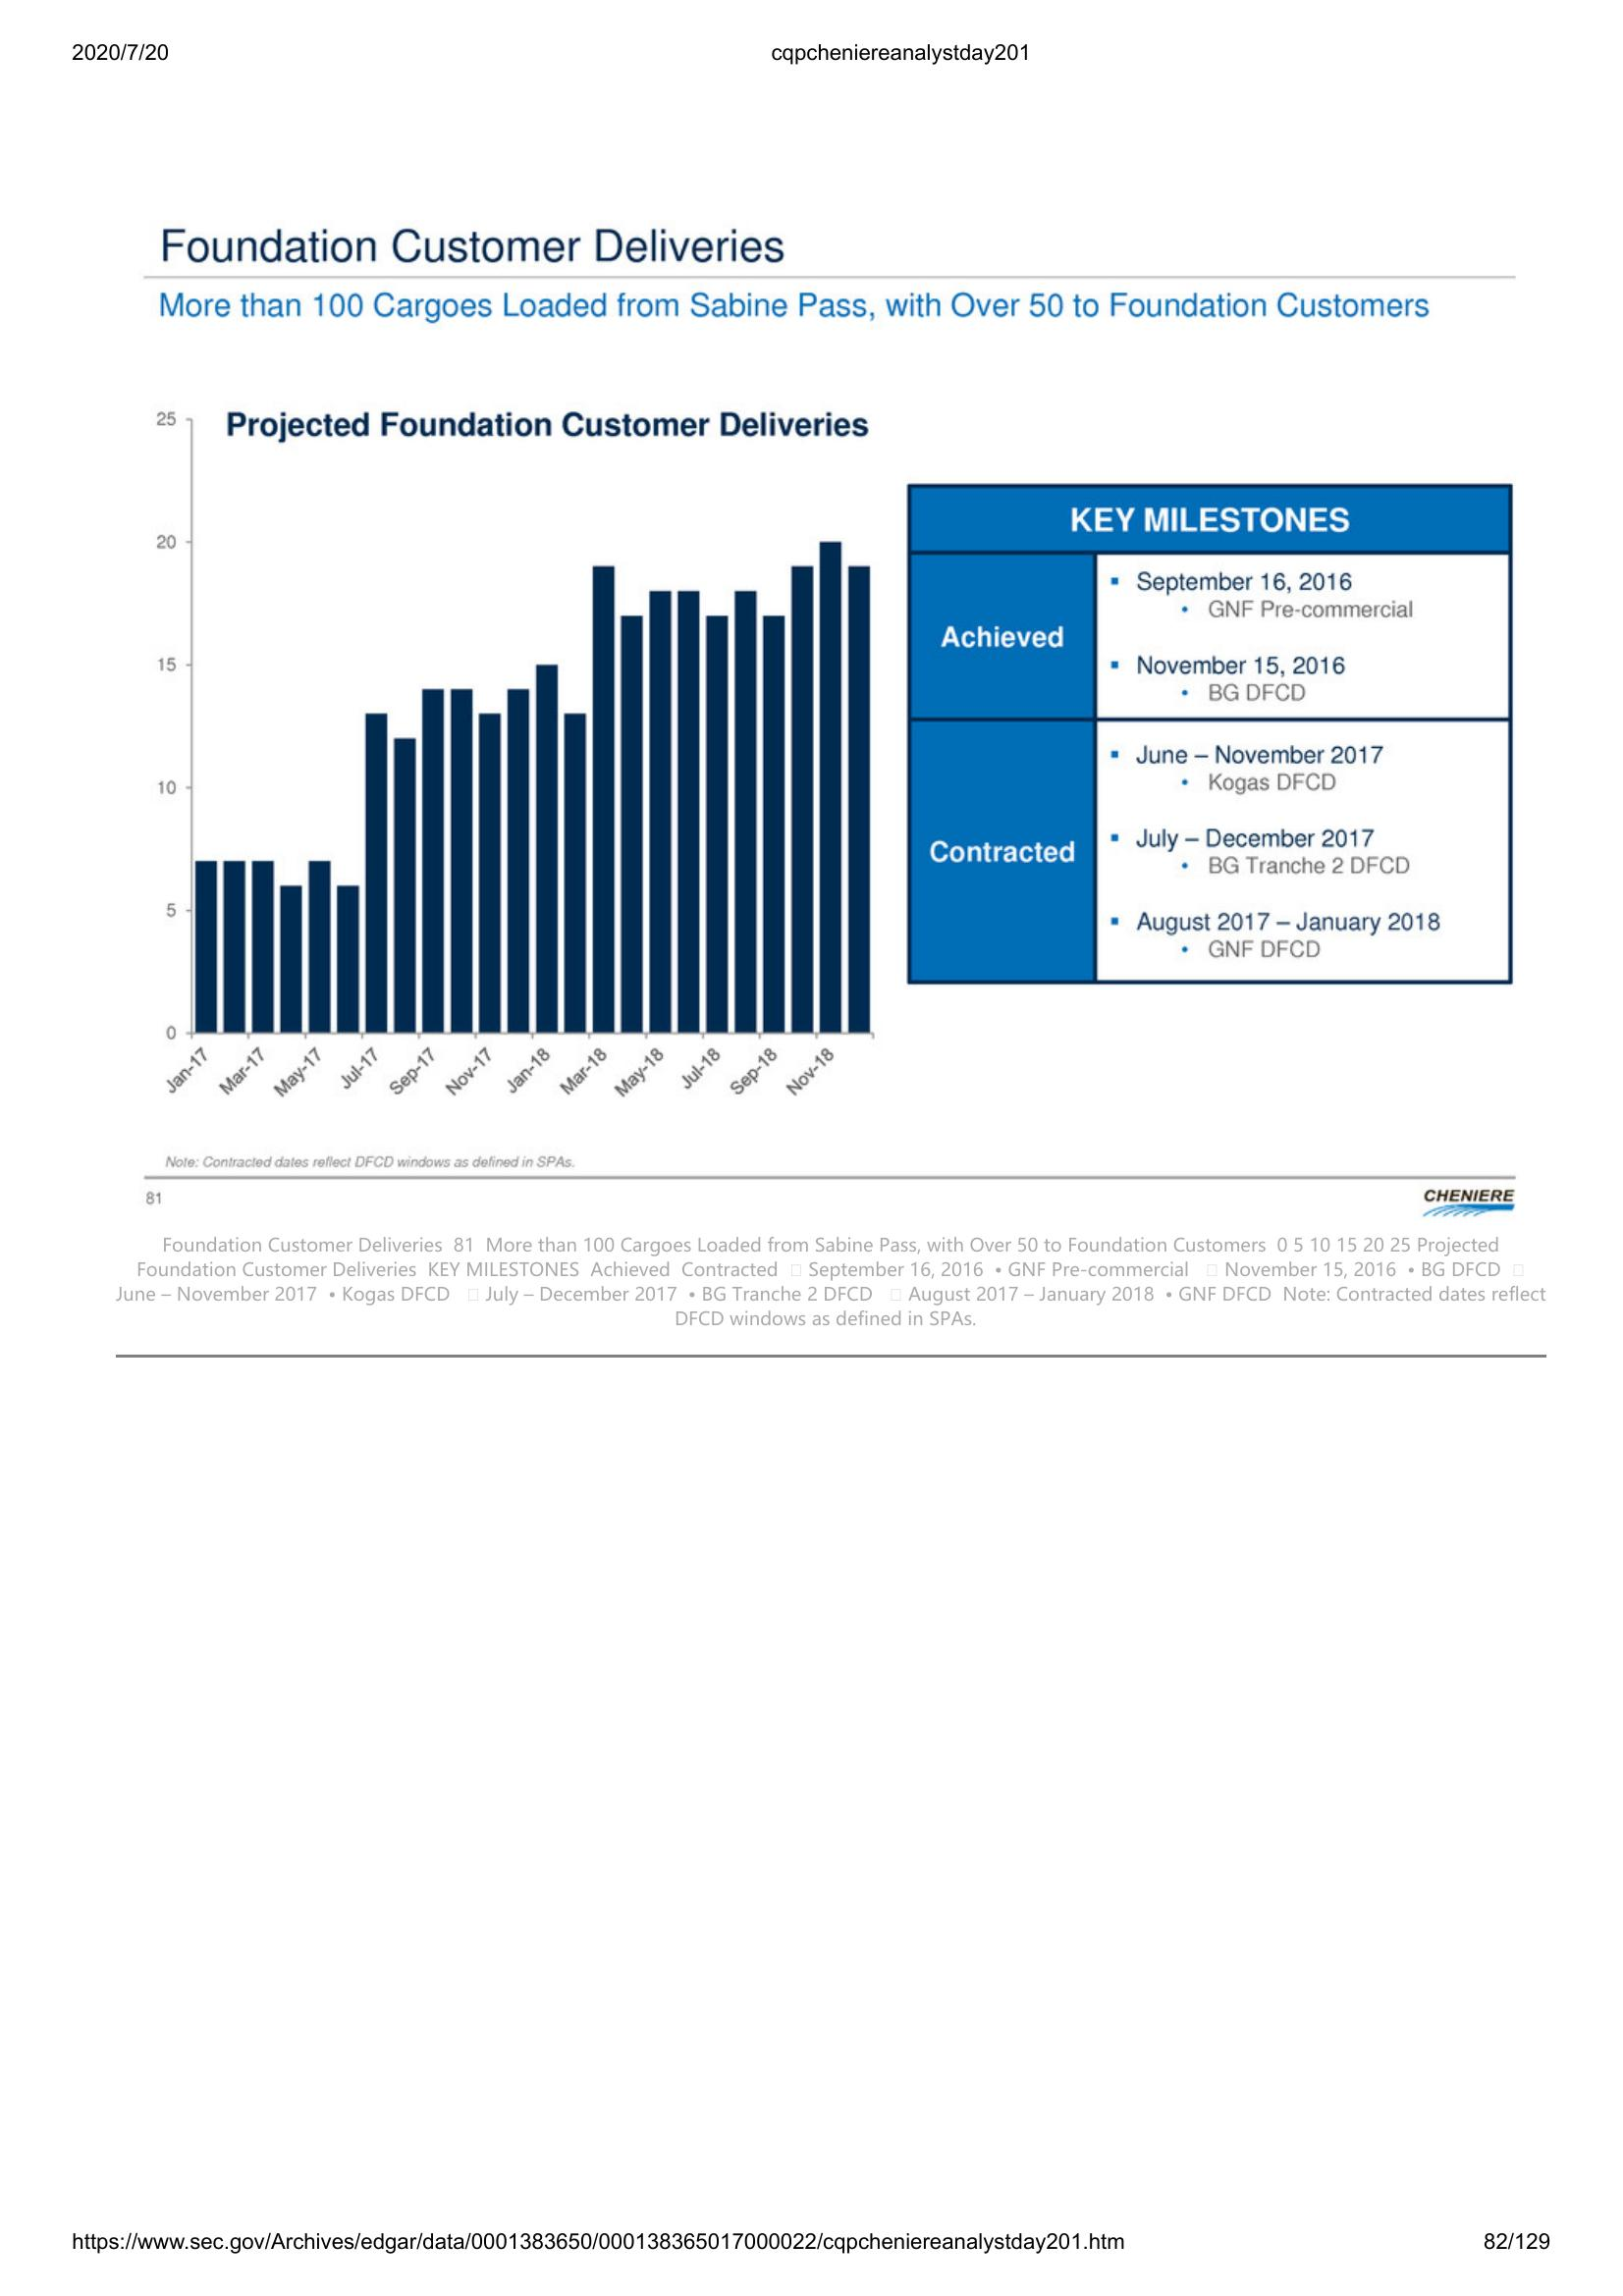table: (896, 476, 1525, 992)
